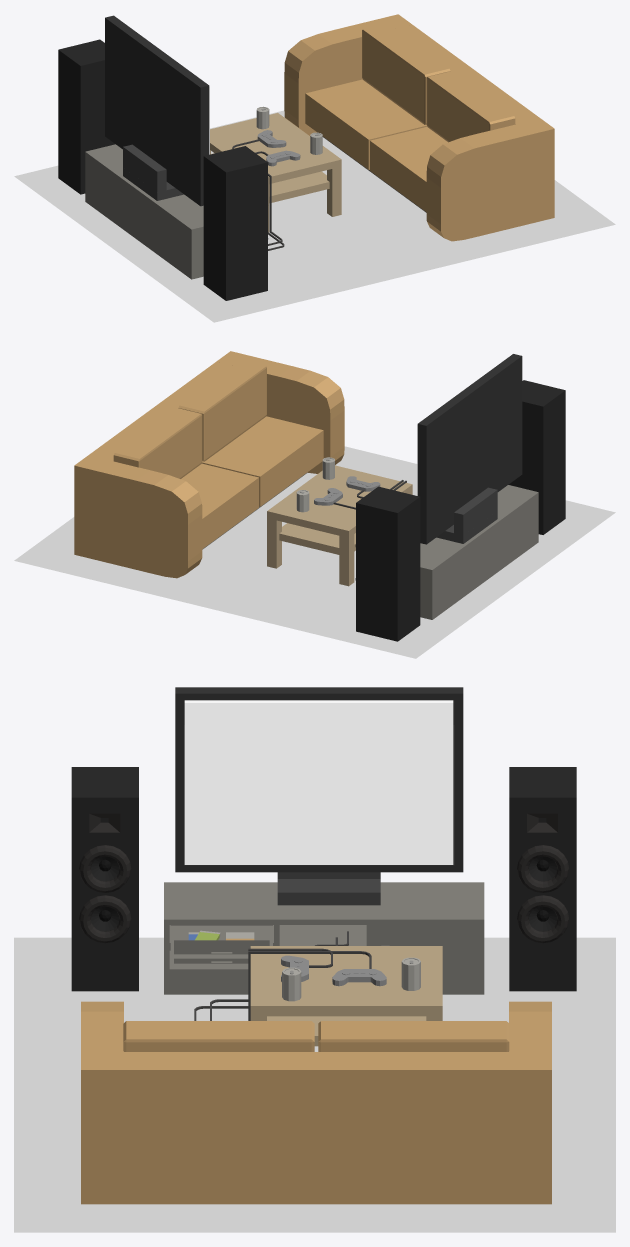
Rendered from modifiedLiving.glb.
3 views of the same model, one above another, from view 1: azimuth 30°, elevation 25°; view 2: azimuth 150°, elevation 25°; view 3: azimuth 270°, elevation 25° (orthographic). The views are drawn at different scales.
Parts seen in each view (by area): view 1: Plane_Plane001, Cube001_Cube002, Cube008_Cube019-Mesh, Cube011_Cube025-Mesh, Cube002_Cube003, Cube024_Cube040, Cube009_Cube024, Cube006_Cube016, Cube_Cube001, Cube012_Cube027, Cube007_Cube017, Cube004_Cube015 (+1 smaller); view 2: Plane_Plane001, Cube001_Cube002, Cube008_Cube019-Mesh, Cube011_Cube025-Mesh, Cube002_Cube003, Cube024_Cube040, Cube009_Cube024, Cube006_Cube016, Cube_Cube001, Cube012_Cube027, Cube004_Cube015, Cube007_Cube017 (+1 smaller); view 3: Plane_Plane001, Cube_Cube001, Box, Cube008_Cube019-Mesh, Cube001_Cube002, Cube009_Cube024, Cube024_Cube040, Cube006_Cube016, Cube011_Cube025-Mesh, Cube008_Cube019-Mesh_1, Cube012_Cube027, Cube018_Cube035 (+7 smaller).
Part boxes in pixels (bbox=[...]): Plane_Plane001: bbox=[14, 110, 615, 322]; Cube001_Cube002: bbox=[284, 14, 554, 241]; Cube008_Cube019-Mesh: bbox=[58, 39, 267, 300]; Cube011_Cube025-Mesh: bbox=[105, 15, 209, 206]; Cube002_Cube003: bbox=[305, 79, 447, 211]; Cube024_Cube040: bbox=[362, 23, 515, 142]; Cube009_Cube024: bbox=[85, 144, 203, 279]; Cube006_Cube016: bbox=[210, 113, 341, 183]; Cube_Cube001: bbox=[396, 24, 539, 124]; Cube012_Cube027: bbox=[123, 144, 183, 200]; Cube007_Cube017: bbox=[211, 153, 329, 202]; Cube004_Cube015: bbox=[210, 150, 341, 232]; Plane_Plane001: bbox=[14, 446, 615, 658]; Cube001_Cube002: bbox=[74, 351, 344, 578]; Cube008_Cube019-Mesh: bbox=[356, 380, 565, 641]; Cube011_Cube025-Mesh: bbox=[417, 354, 522, 544]; Cube002_Cube003: bbox=[181, 416, 323, 548]; Cube024_Cube040: bbox=[113, 360, 266, 478]; Cube009_Cube024: bbox=[420, 485, 538, 619]; Cube006_Cube016: bbox=[267, 465, 412, 535]; Cube_Cube001: bbox=[89, 361, 233, 461]; Cube012_Cube027: bbox=[436, 487, 497, 543]; Cube004_Cube015: bbox=[267, 489, 412, 586]; Cube007_Cube017: bbox=[279, 523, 355, 554]; Plane_Plane001: bbox=[14, 937, 615, 1232]; Cube_Cube001: bbox=[124, 1052, 508, 1204]; Box: bbox=[184, 700, 453, 864]; Cube008_Cube019-Mesh: bbox=[71, 767, 576, 991]; Cube001_Cube002: bbox=[81, 1001, 551, 1204]; Cube009_Cube024: bbox=[164, 882, 484, 994]; Cube024_Cube040: bbox=[123, 1021, 509, 1051]; Cube006_Cube016: bbox=[250, 946, 442, 1016]; Cube011_Cube025-Mesh: bbox=[175, 687, 463, 872]; Cube008_Cube019-Mesh_1: bbox=[79, 813, 568, 943]; Cube012_Cube027: bbox=[277, 872, 380, 905]; Cube018_Cube035: bbox=[170, 925, 272, 958].
Bounding box in the file's own units: 5.3 × 2.35 × 4.57.
